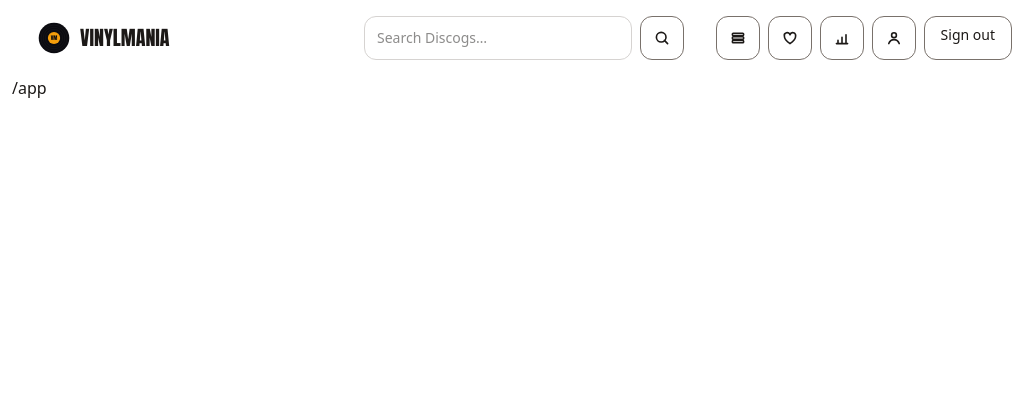
Scenario: Header search — empty and error states (069 US4) › shows the error state and announces it politely when the lookup is rejected (FR-019, FR-023)
Click the button named "search". click: [662, 38]
box: top-left (640, 16), bottom-right (684, 60)
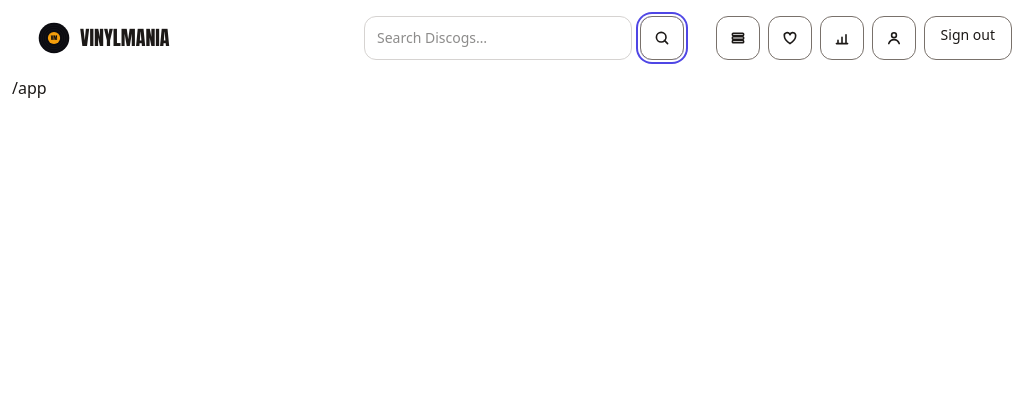
Type "miles" into the dropdown labelled "Search Discogs…". click: [498, 38]
box: top-left (364, 16), bottom-right (632, 60)
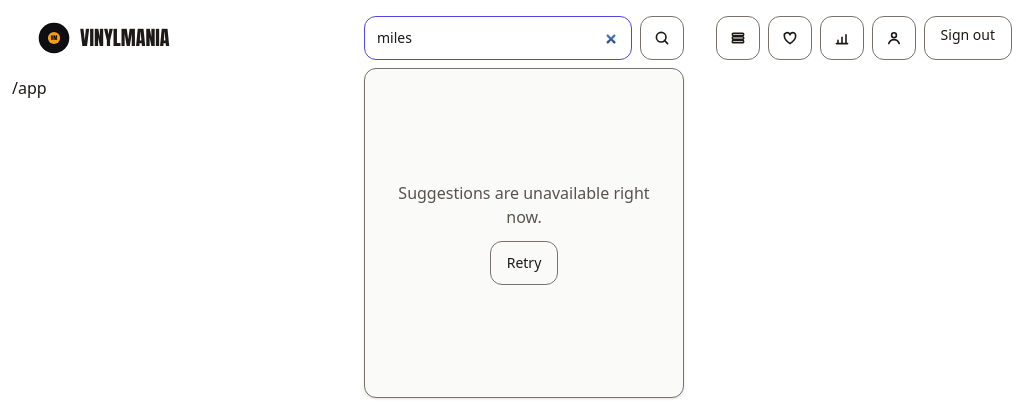
Expected: the button "Retry" is shown, top-left (490, 241), bottom-right (558, 285)
